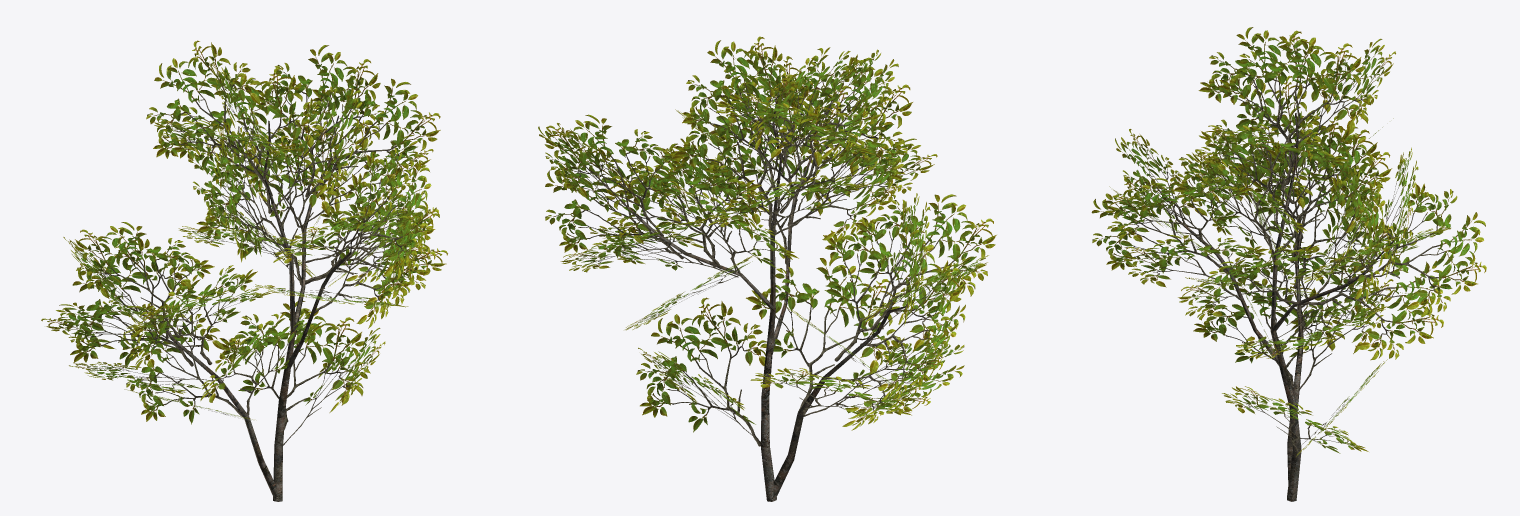
The model's file is MainCity_GuanMu_02.fbx.
3 views of the same model, side by side, from view 1: azimuth 30°, elevation 25°; view 2: azimuth 150°, elevation 25°; view 3: azimuth 270°, elevation 25° (orthographic). The views are drawn at different scales.
Visible parts, largest first — view 1: MainCity_GuanMu_02; view 2: MainCity_GuanMu_02; view 3: MainCity_GuanMu_02.
Boxes of the visible parts, x1,y1,x2,y2 form: MainCity_GuanMu_02: [41, 40, 447, 501]; MainCity_GuanMu_02: [538, 36, 996, 501]; MainCity_GuanMu_02: [1091, 27, 1486, 501].
Bounding box in the file's own units: 359 × 371 × 338.
1 material, 1 textured.
